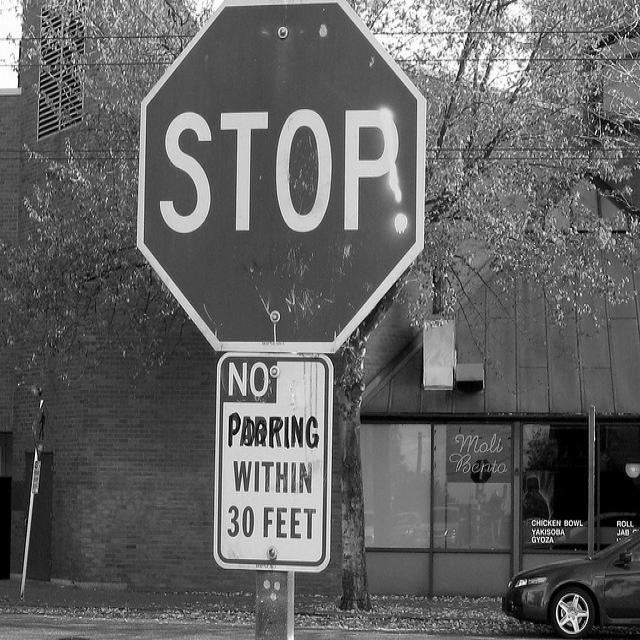car: (500, 528, 639, 638)
pole: (16, 397, 43, 596)
